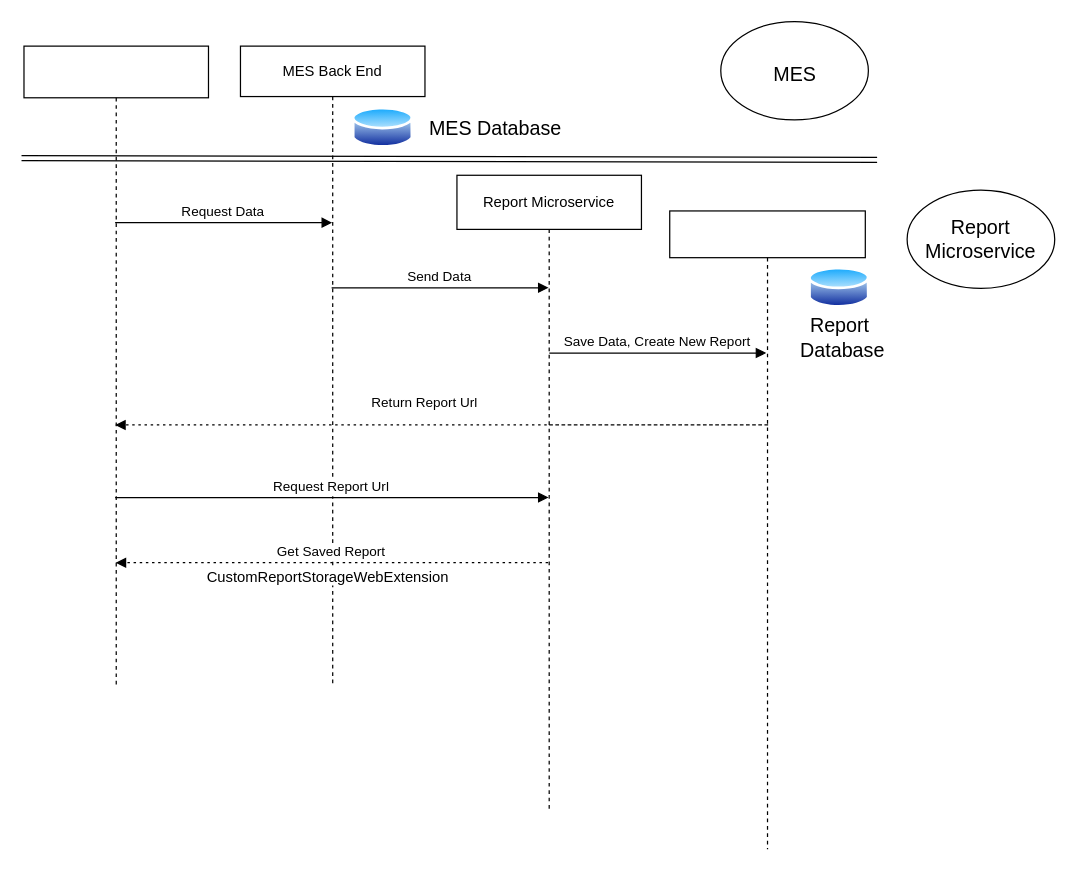
Some shapes in this 1076 by 871 pixel diagram are drawn without their labels. Here are the shapes that lost their labels. From the top down, the box of each, then its label:
(23, 45, 208, 687): MES Front End
(669, 210, 865, 849): ReportingController
